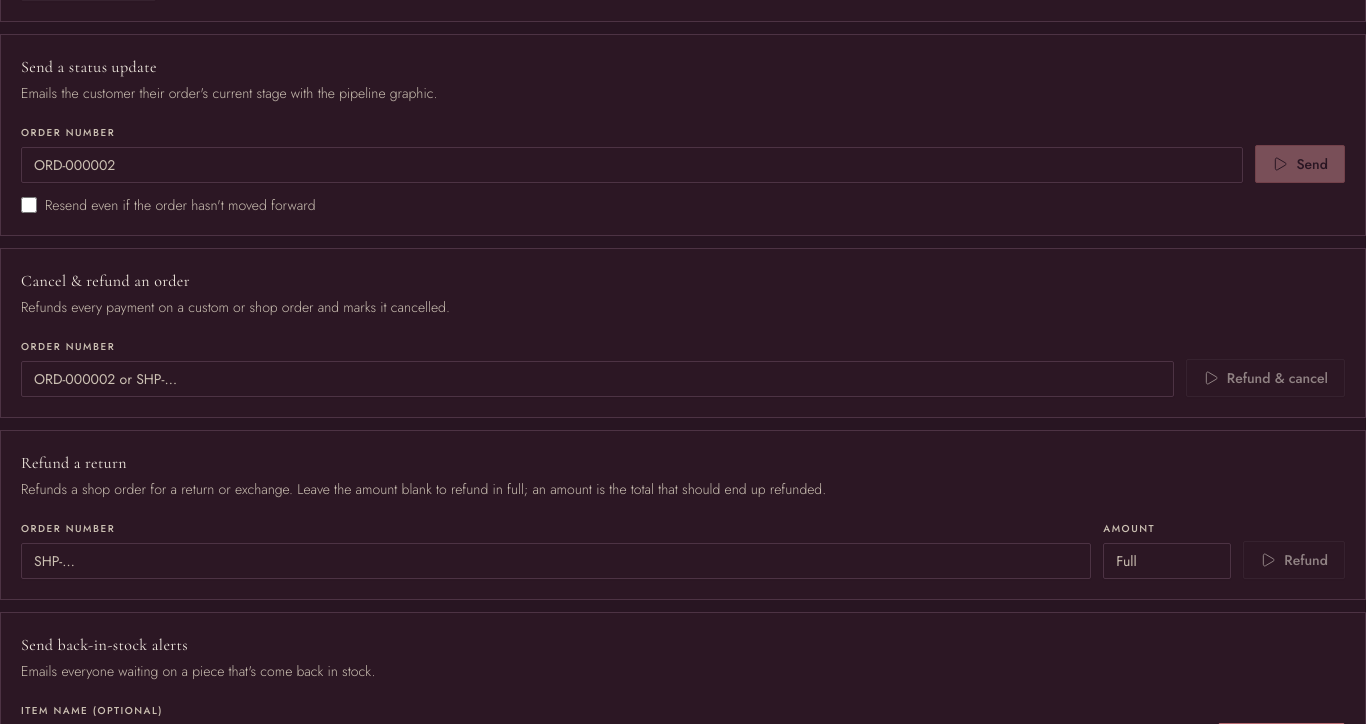
Scenario: StudioTools › abandons a refund when the confirmation is declined
(page scrolled)
Type "ORD-000002" into the field with test id "tool-cancellation-refund-order".
click(597, 379); type("ORD-000002")  # box [21,361,1174,397]
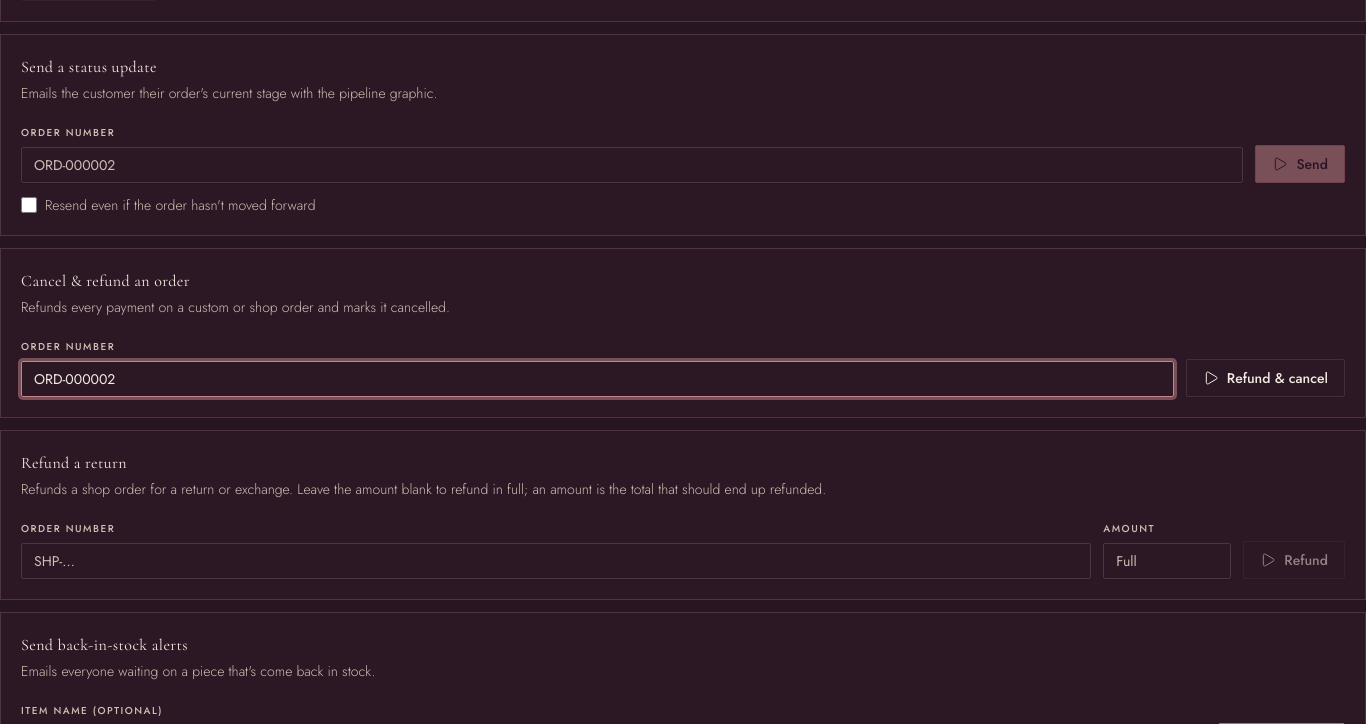
Click the button with test id "tool-cancellation-refund-run".
click(1265, 378)  # box [1186,359,1345,397]
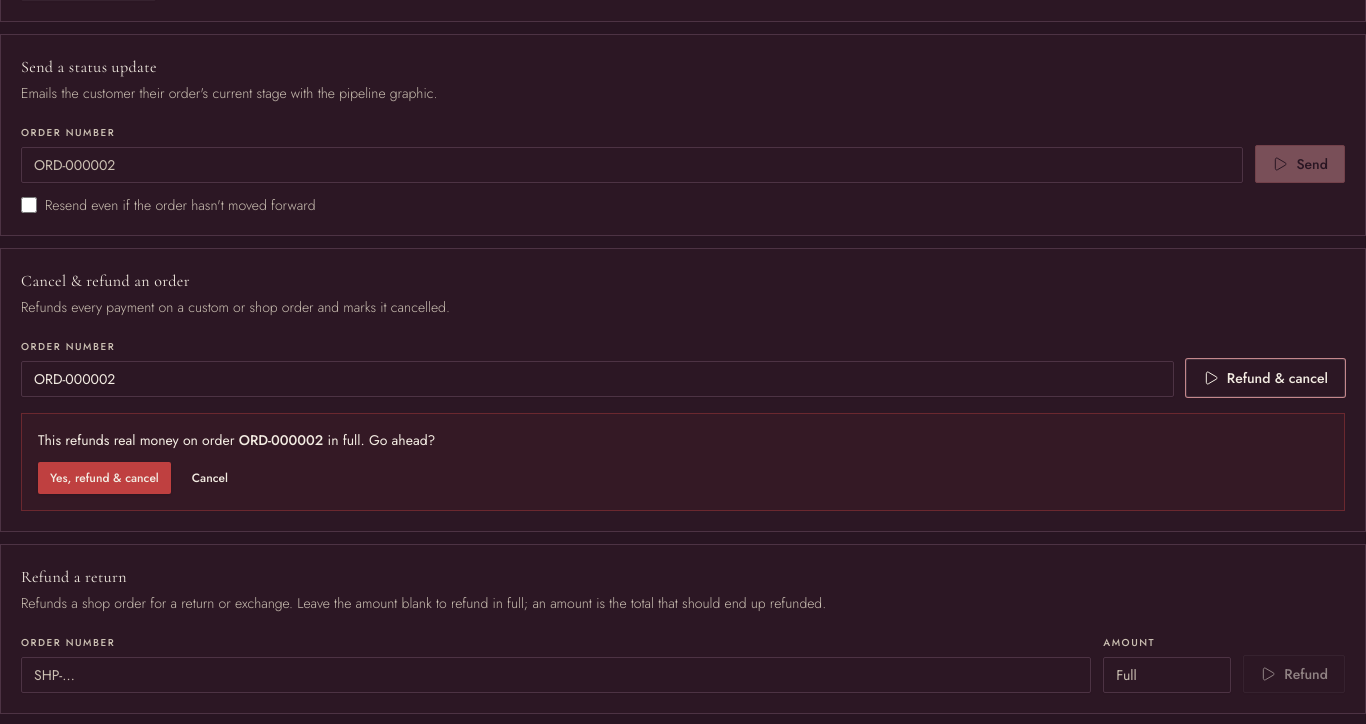
Click the button with test id "tool-cancellation-refund-confirm-no".
click(210, 478)  # box [179,462,241,494]
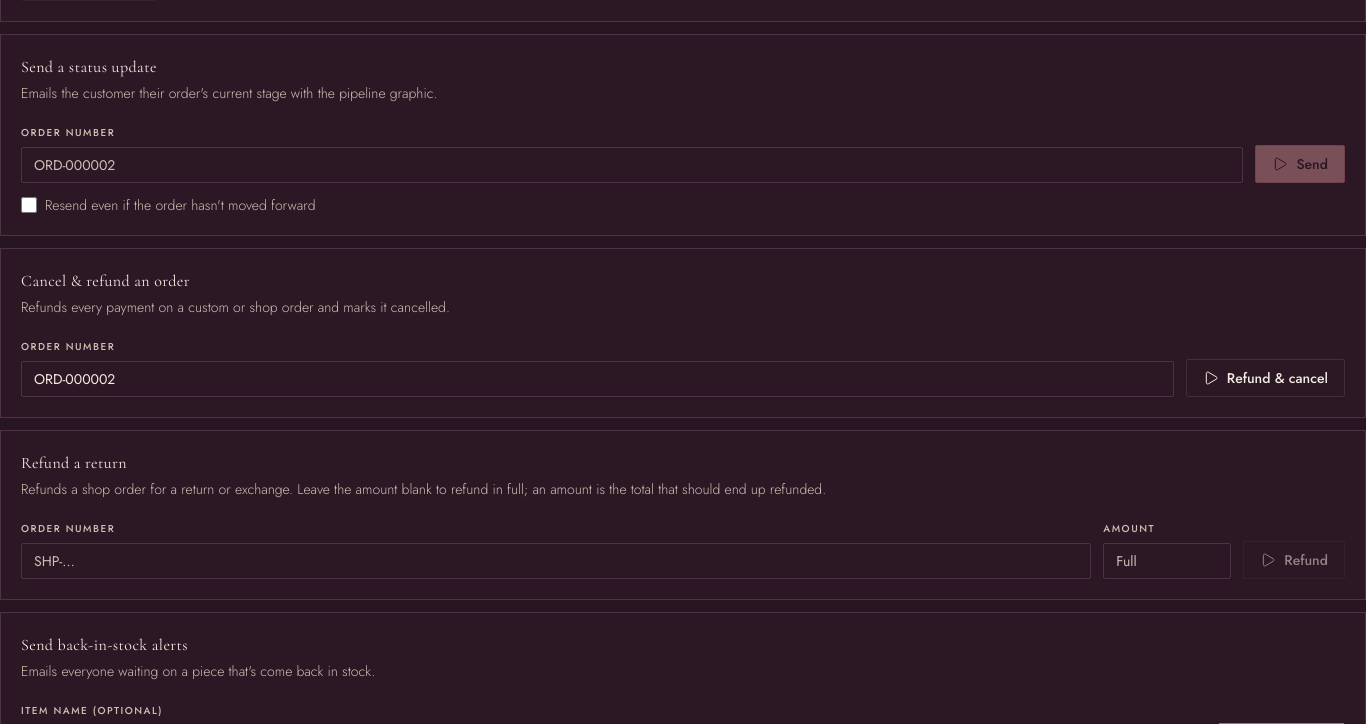
Expected: the element with test id "tool-cancellation-refund-confirm" is gone
